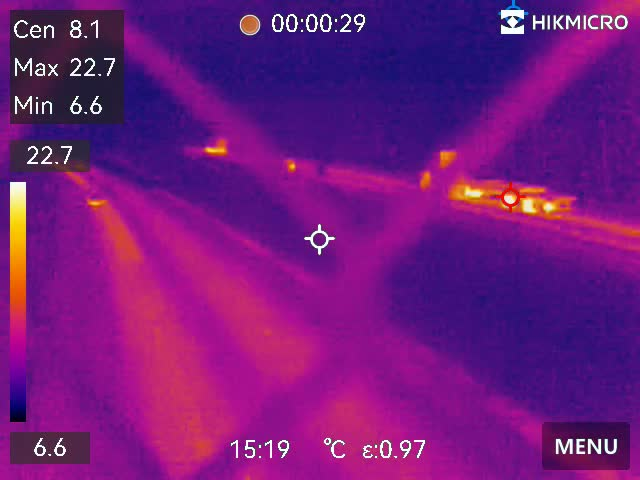heavyTruck: (419, 153, 579, 214)
